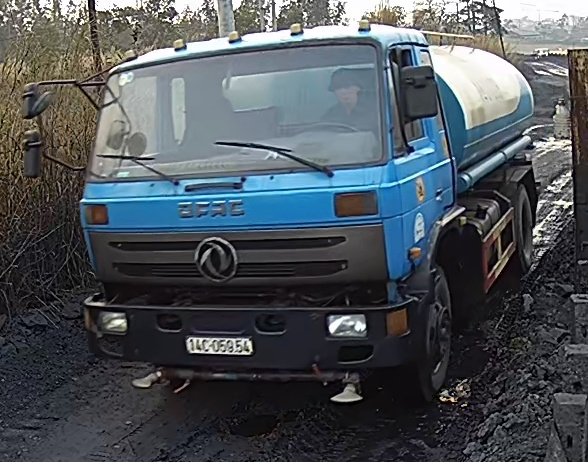vehicle plate: (181, 331, 259, 361)
